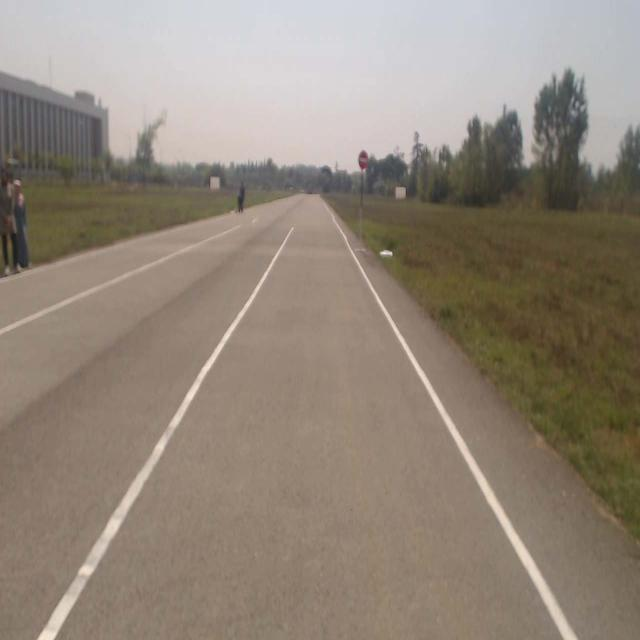girisyok: (359, 150, 368, 169)
